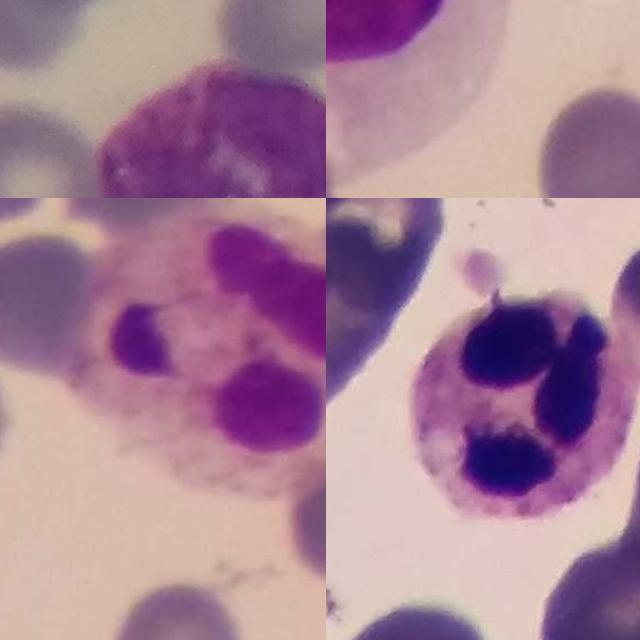Basophil: (95, 64, 326, 198)
Monocyte: (326, 0, 517, 177)
Neutrophil: (72, 201, 326, 493), (410, 292, 634, 521)
